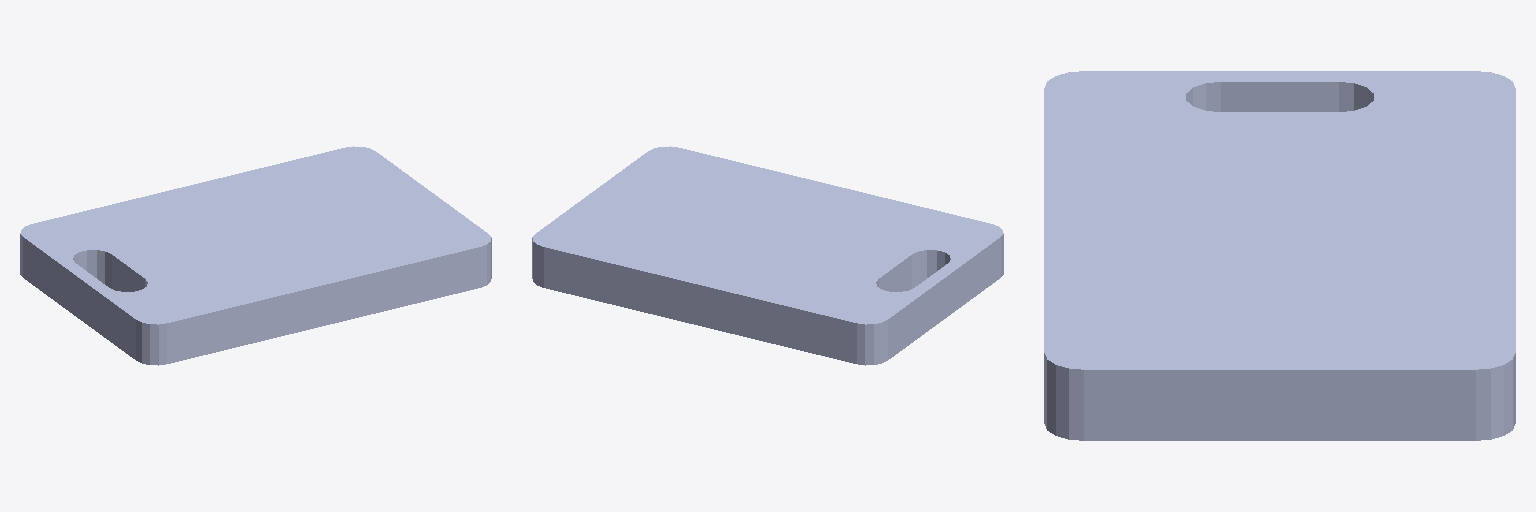
robot.urdf — Chopping Board:
<?xml version="1.0" encoding="utf-8"?>
<!-- This URDF was automatically created by SolidWorks to URDF Exporter! Originally created by [author] ([email redacted]) 
     Commit Version: 1.6.0-4-g7f85cfe  Build Version: 1.6.7995.38578
     For more information, please see http://wiki.ros.org/sw_urdf_exporter -->
<robot
  name="Chopping Board">
  <link
    name="base_link">
    <inertial>
      <origin
        xyz="-0.0525131158329784 -0.0164268889860182 0.0427946791446061"
        rpy="0 0 0" />
      <mass
        value="6.78396452085858" />
      <inertia
        ixx="0.0553705158370438"
        ixy="-6.62711409517496E-19"
        ixz="-5.35154196760761E-18"
        iyy="0.165880438837991"
        iyz="-3.074587608134E-19"
        izz="0.113427751367798" />
    </inertial>
    <visual>
      <origin
        xyz="0 0 0"
        rpy="0 0 0" />
      <geometry>
        <mesh
          filename="package://Chopping Board/meshes/base_link.STL" />
      </geometry>
      <material
        name="">
        <color
          rgba="0.792156862745098 0.819607843137255 0.933333333333333 1" />
      </material>
    </visual>
    <collision>
      <origin
        xyz="0 0 0"
        rpy="0 0 0" />
      <geometry>
        <mesh
          filename="package://Chopping Board/meshes/base_link.STL" />
      </geometry>
    </collision>
  </link>
</robot>

--- Facts derived from the render (not from the file) ---
Views: 3 orthographic renders of the robot side by side, from view 1: azimuth 30°, elevation 25°; view 2: azimuth 150°, elevation 25°; view 3: azimuth 270°, elevation 25°.
Robot: Chopping Board — 1 links, 0 joints (none); root link base_link; default pose: every joint at zero.
Links seen in each view (by area): view 1: base_link; view 2: base_link; view 3: base_link.
Boxes of the visible links, <box> form: base_link: <box>20,146,491,365</box>; base_link: <box>532,146,1003,365</box>; base_link: <box>1044,71,1515,440</box>.
Size in the robot's own frame: 0.4572 by 0.3048 by 0.0508 metres.
Meshes: 1 distinct files referenced, 1 mesh visuals loaded (1 binary STL).